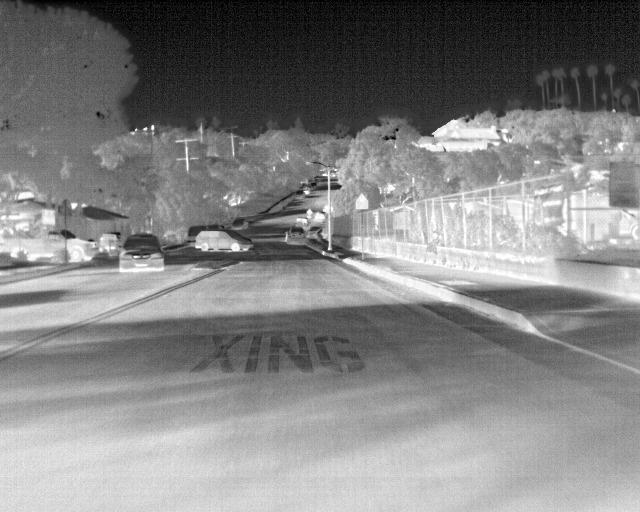car: (8, 228, 99, 264), (122, 237, 166, 273), (193, 230, 254, 253), (283, 227, 307, 248), (99, 232, 118, 254), (187, 225, 201, 245), (232, 217, 247, 231), (293, 189, 305, 203)
